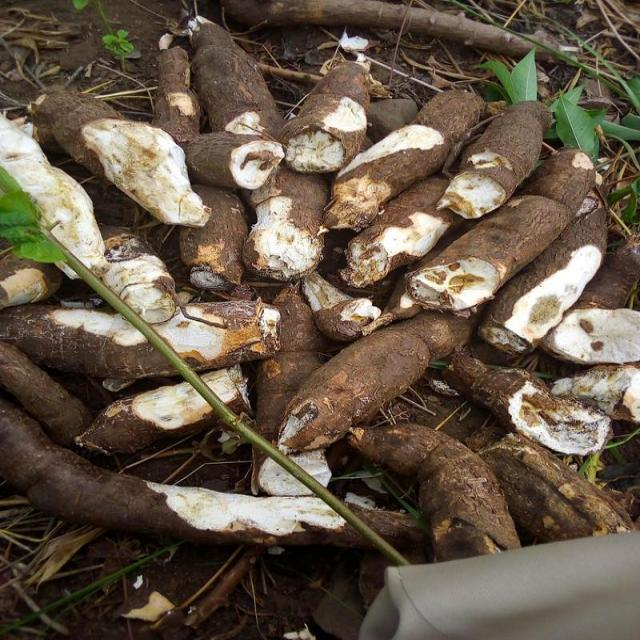cassava leaf: (0, 22, 638, 566), (80, 115, 211, 228)
